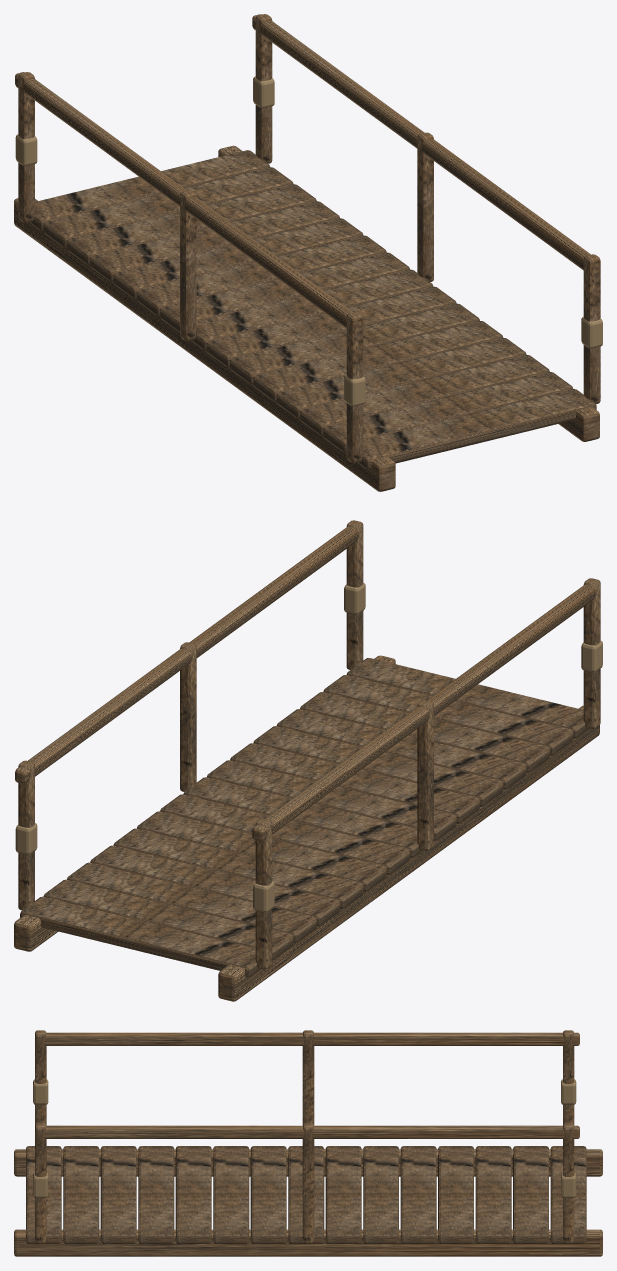
File: bridge.glb
The picture shows the model from 3 angles, top to bottom: view 1: azimuth 30°, elevation 25°; view 2: azimuth 150°, elevation 25°; view 3: azimuth 270°, elevation 25°; orthographic projection. The views are drawn at different scales.
Parts seen in each view (by area): view 1: Guard rail, Guard rail.001, Cargo deck, Bridge beam.001, Cargo deck.014, Cargo deck.010, Cargo deck.011, Cargo deck.013, Cargo deck.012, Cargo deck.009, Cargo deck.002, Cargo deck.008 (+13 smaller); view 2: Guard rail.001, Guard rail, Cargo deck.001, Bridge beam.001, Cargo deck.005, Cargo deck.002, Cargo deck.006, Cargo deck.003, Cargo deck.004, Cargo deck.007, Cargo deck.014, Cargo deck (+13 smaller); view 3: Bridge beam, Guard rail, Guard rail.001, Cargo deck.005, Cargo deck.003, Cargo deck.007, Cargo deck.009, Cargo deck.012, Cargo deck.014, Cargo deck.010, Cargo deck.011, Cargo deck.013 (+17 smaller).
Boxes of the visible parts, left/top/right/bottom form: Guard rail: left=15, top=72, right=353, bottom=328; Guard rail.001: left=252, top=14, right=590, bottom=270; Cargo deck: left=346, top=389, right=596, bottom=469; Bridge beam.001: left=14, top=198, right=395, bottom=491; Cargo deck.014: left=323, top=372, right=573, bottom=452; Cargo deck.010: left=230, top=303, right=479, bottom=384; Cargo deck.011: left=253, top=321, right=503, bottom=401; Cargo deck.013: left=300, top=355, right=549, bottom=435; Cargo deck.012: left=276, top=338, right=526, bottom=418; Cargo deck.009: left=206, top=286, right=456, bottom=367; Cargo deck.002: left=43, top=167, right=293, bottom=247; Cargo deck.008: left=191, top=269, right=433, bottom=350; Guard rail.001: left=15, top=527, right=358, bottom=783; Guard rail: left=252, top=585, right=595, bottom=841; Cargo deck.001: left=20, top=896, right=261, bottom=977; Bridge beam.001: left=218, top=705, right=599, bottom=1001; Cargo deck.005: left=113, top=828, right=363, bottom=909; Cargo deck.002: left=43, top=879, right=293, bottom=960; Cargo deck.006: left=137, top=811, right=386, bottom=892; Cargo deck.003: left=67, top=862, right=316, bottom=943; Cargo deck.004: left=90, top=845, right=340, bottom=926; Cargo deck.007: left=160, top=794, right=410, bottom=874; Cargo deck.014: left=323, top=675, right=573, bottom=755; Cargo deck: left=346, top=658, right=589, bottom=738; Bridge beam: left=14, top=1229, right=602, bottom=1256; Guard rail: left=44, top=1032, right=579, bottom=1045; Guard rail.001: left=44, top=1125, right=579, bottom=1138; Cargo deck.005: left=400, top=1146, right=436, bottom=1243; Cargo deck.003: left=475, top=1146, right=511, bottom=1243; Cargo deck.007: left=325, top=1146, right=361, bottom=1243; Cargo deck.009: left=250, top=1146, right=286, bottom=1243; Cargo deck.012: left=138, top=1146, right=174, bottom=1243; Cargo deck.014: left=63, top=1146, right=99, bottom=1243; Cargo deck.010: left=213, top=1146, right=249, bottom=1243; Cargo deck.011: left=175, top=1146, right=211, bottom=1243; Cargo deck.013: left=100, top=1146, right=136, bottom=1243.
Size of the model in its own units: 1.53 by 0.98 by 3.85.
Materials: 3 (2 with a texture image).
